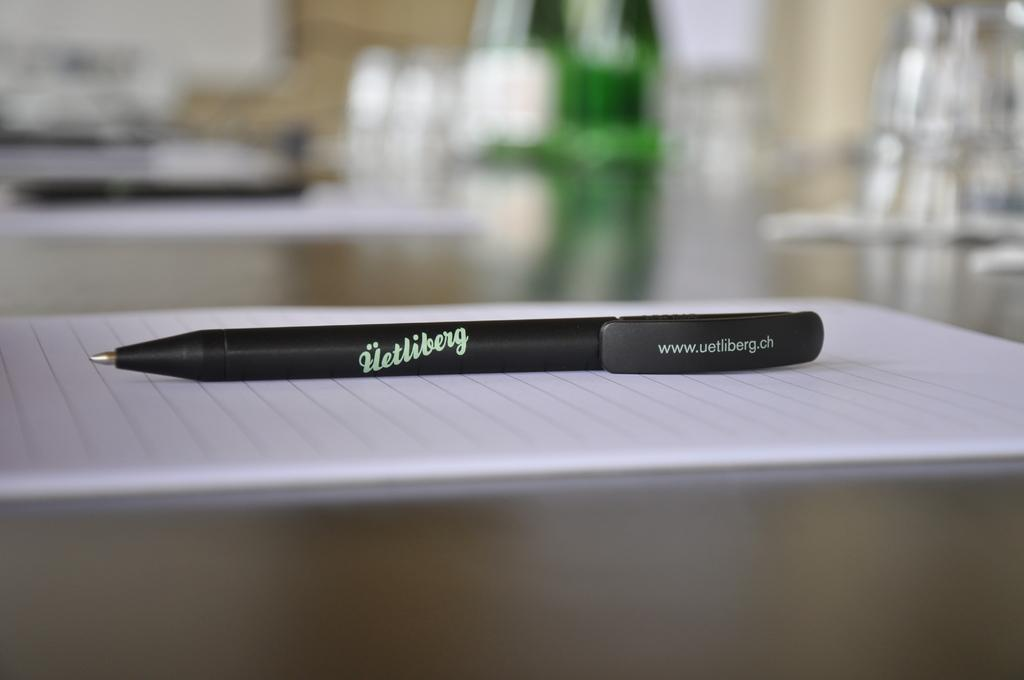pen: (88, 298, 824, 376)
